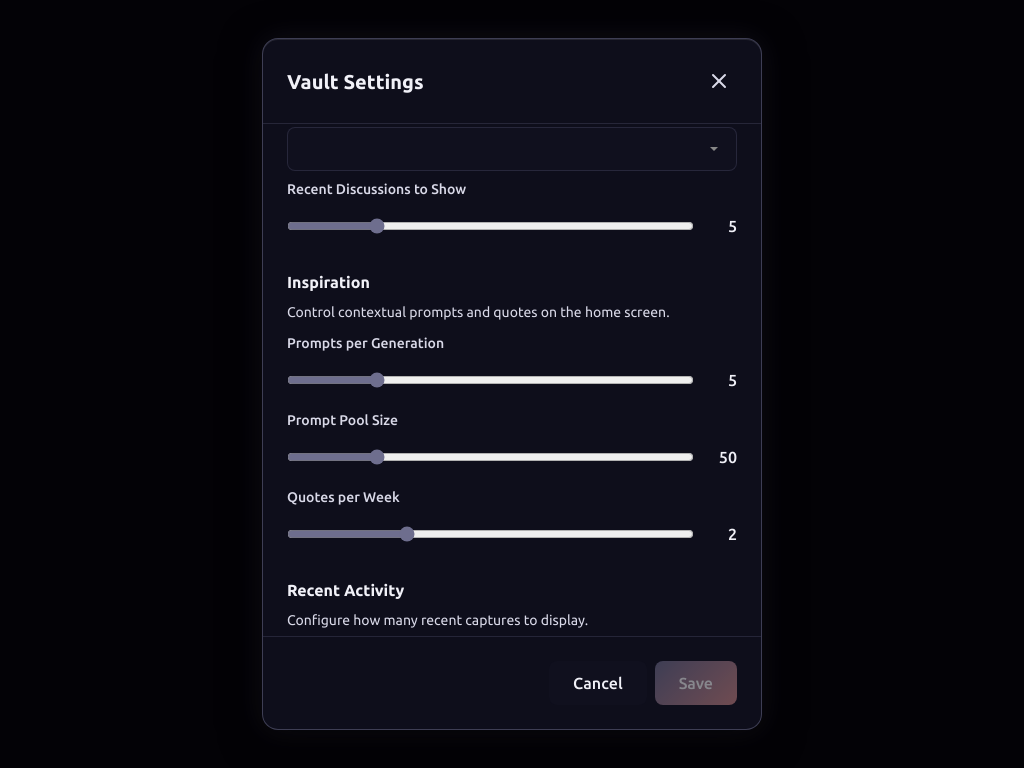
Scenario: ConfigEditorDialog › slider interactions › promptsPerGeneration slider value display updates when slider is moved
The image size is (1024, 768).
(page scrolled)
// Change value to 10
Set the slider labelled "Prompts per Generation" to "10" at (480, 380), box [287, 358, 694, 402]
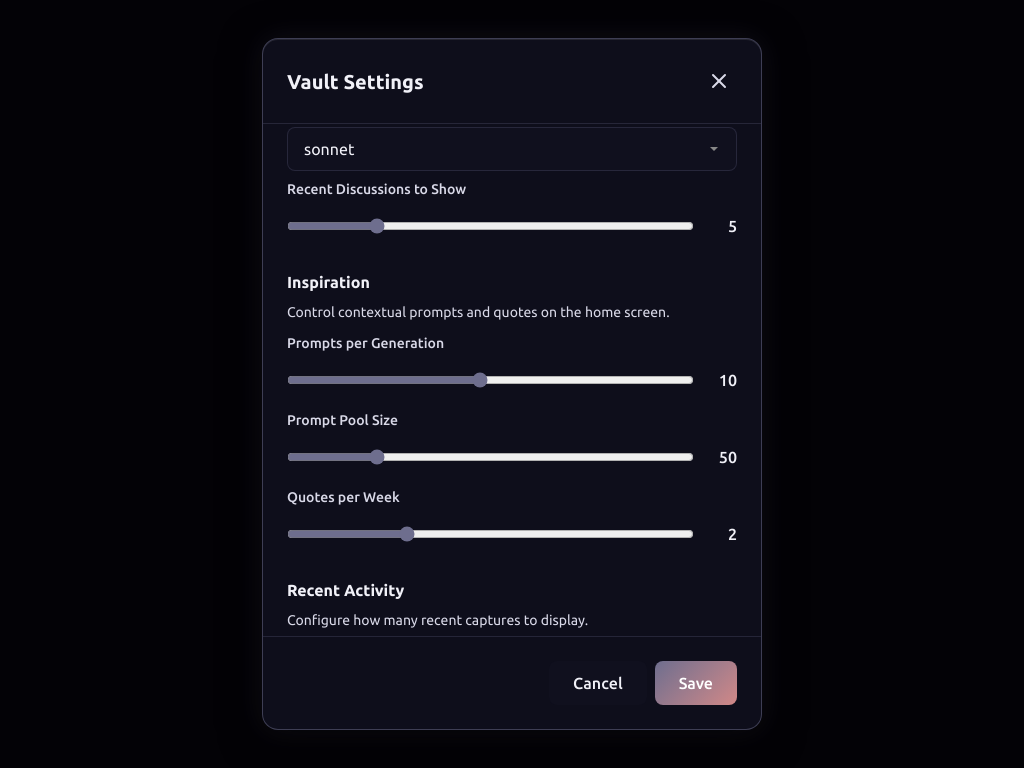
Now the text with class "config-editor__slider-value" reads "10", box [719, 371, 737, 389]
